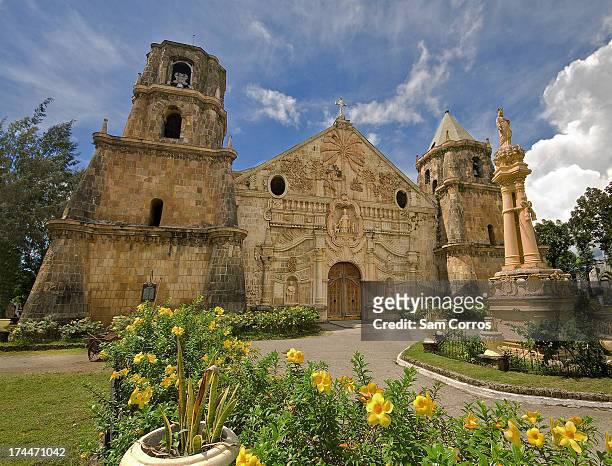miagao_church_miagao_iloilo: (28, 28, 540, 329)
